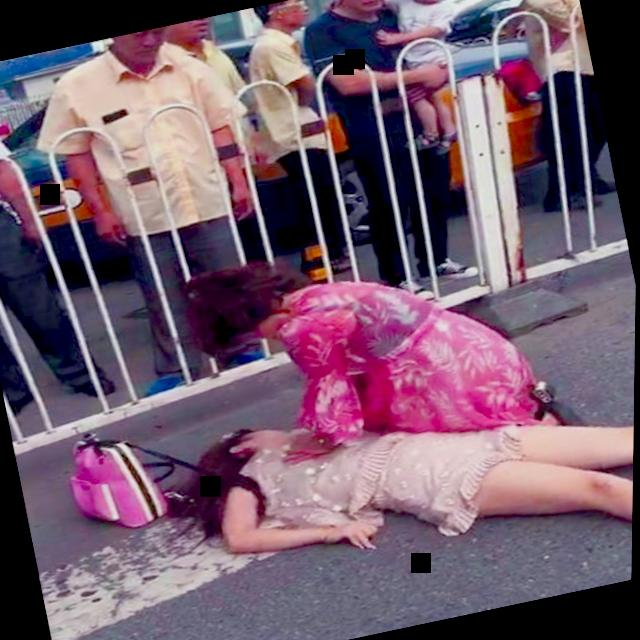Fall-Detected: (163, 346, 636, 640)
